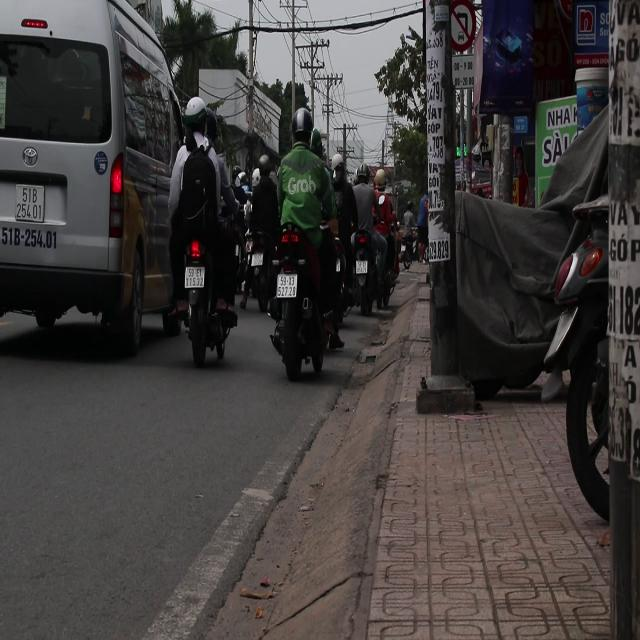car: (0, 0, 180, 358)
motorbike: (167, 107, 244, 366), (266, 224, 331, 379), (348, 197, 395, 315), (238, 217, 281, 332)
